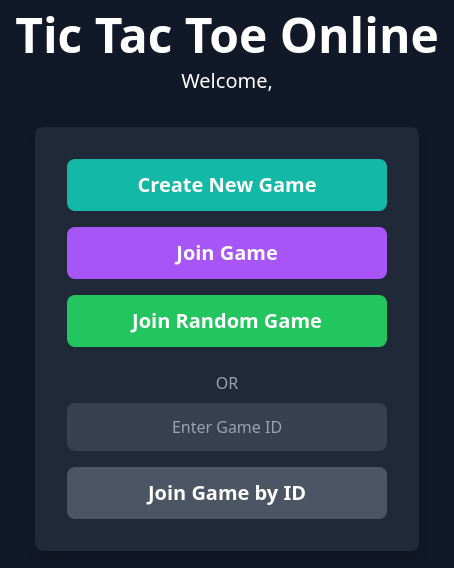
Lobby Component › join by ID button is enabled when input has value
The width and height of the screenshot is (454, 568).
Type "game-123" into the field with placeholder "Enter Game ID" at (227, 427), box top-left (67, 403), bottom-right (387, 451)
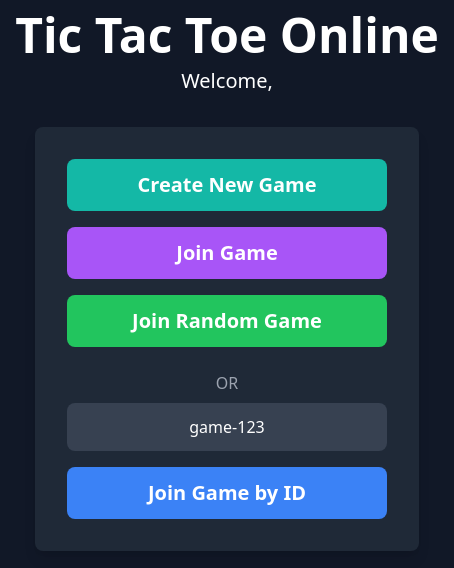
Expected: the button "Join Game by ID" is enabled, top-left (67, 467), bottom-right (387, 519)
